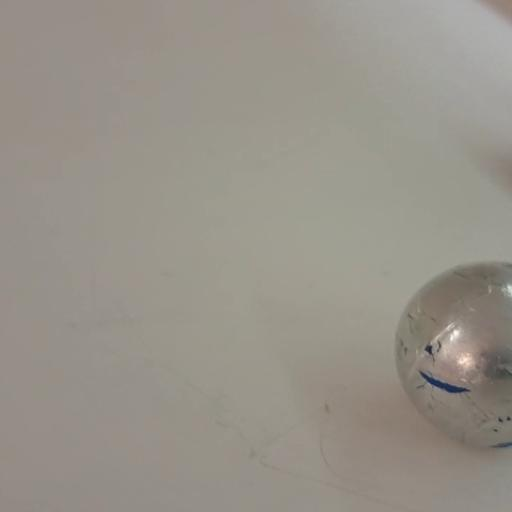alive: (393, 256, 512, 452)
